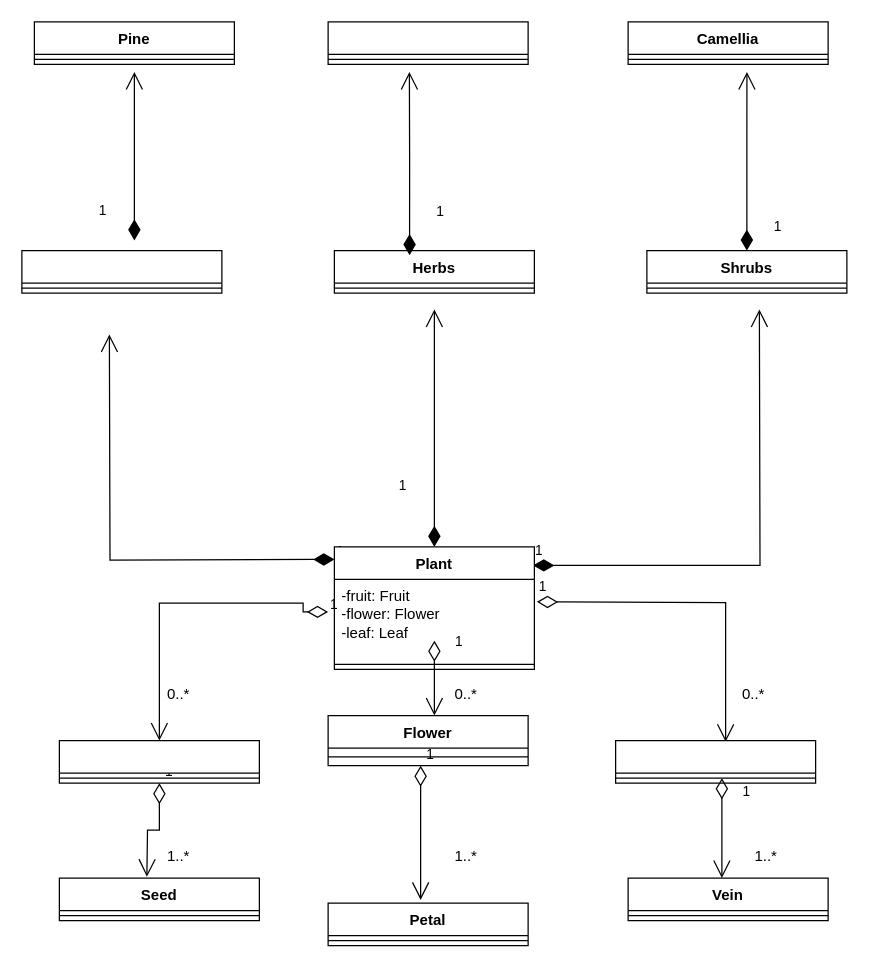
The diagram is 869 pixels wide and 968 high, and some of its shapes have lost their labels. The box of each missing label's shape, as (x1, y1, x2, y2) in pixels:
Basil: (327, 21, 528, 64)
Fruit: (58, 739, 259, 783)
Leaf: (614, 739, 816, 783)
Tree: (21, 249, 222, 293)
